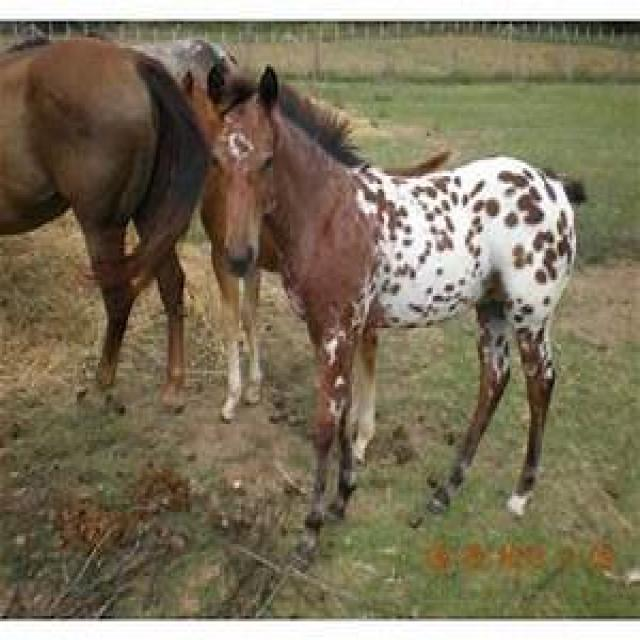horse: (206, 70, 578, 526), (0, 41, 208, 405)
